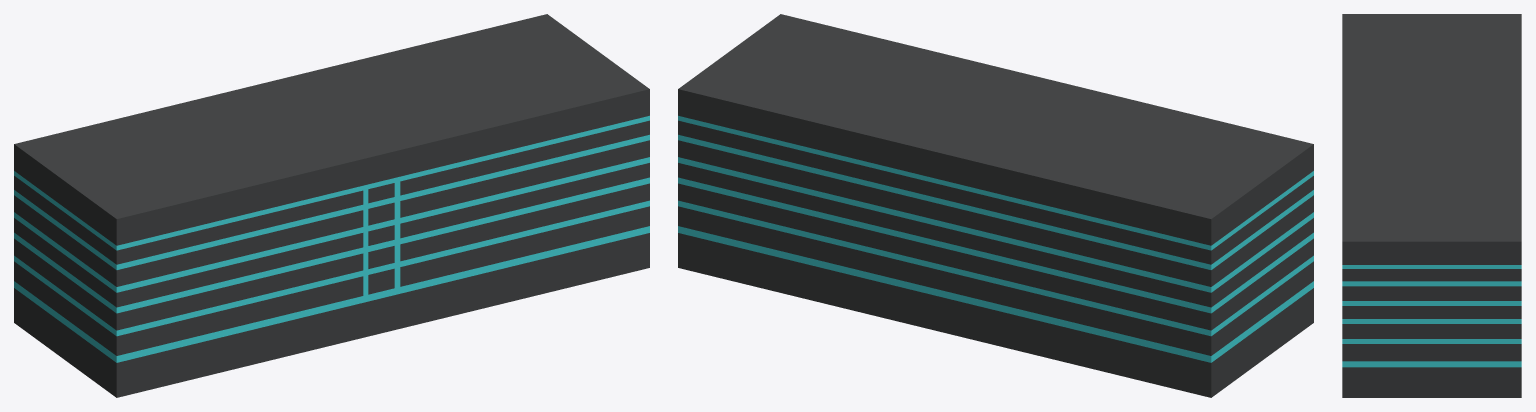
The model's file is Base_Extension_1_LODGroup.fbx.
3 renders of one model, left to right at view 1: azimuth 30°, elevation 25°; view 2: azimuth 150°, elevation 25°; view 3: azimuth 270°, elevation 25°, orthographic. The views are drawn at different scales.
Parts seen in each view (by area): view 1: Base Extension 1_LOD0; view 2: Base Extension 1_LOD0; view 3: Base Extension 1_LOD0.
Boxes of the visible parts, x1,y1,x2,y2 form: Base Extension 1_LOD0: (14,14,649,397); Base Extension 1_LOD0: (678,14,1313,397); Base Extension 1_LOD0: (1342,14,1521,397).
Size of what is drawn, in the model's own units: 300 by 96.13 by 100.
